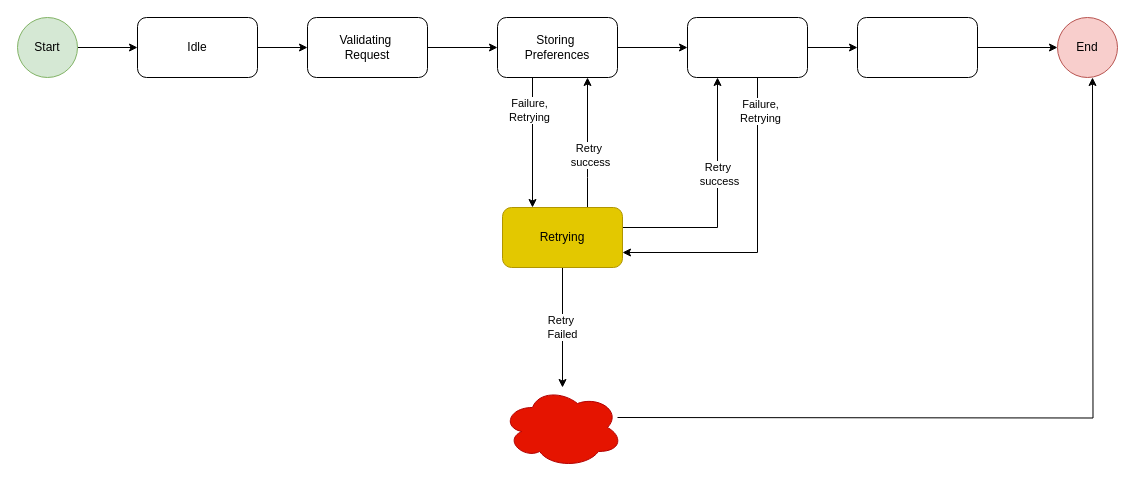
The diagram is 1135 pixels wide and 485 high, and some of its shapes have lost their labels. Here are the shapes that lost their labels. From the top down, the centre of each, then its label:
At point (747, 47): "Updating Cached Subscription Mappings".
At point (917, 47): "Confirmed".
At point (562, 427): "Failed".
